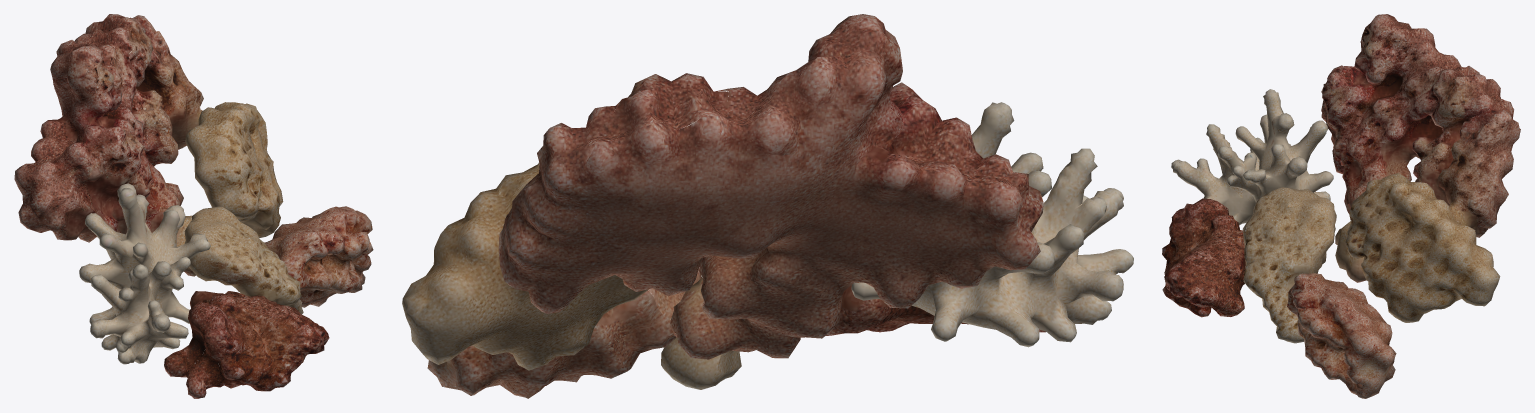
Rendered from coral2.glb.
3 renders of one model, left to right at view 1: azimuth 30°, elevation 25°; view 2: azimuth 150°, elevation 25°; view 3: azimuth 270°, elevation 25°, orthographic. The views are drawn at different scales.
Parts seen in each view (by area): view 1: f7560b8d-cc41-458a-a1b3-b8d138318ae6; view 2: f7560b8d-cc41-458a-a1b3-b8d138318ae6; view 3: f7560b8d-cc41-458a-a1b3-b8d138318ae6.
Boxes of the visible parts, x1,y1,x2,y2 form: f7560b8d-cc41-458a-a1b3-b8d138318ae6: (14,14,373,398); f7560b8d-cc41-458a-a1b3-b8d138318ae6: (402,14,1133,398); f7560b8d-cc41-458a-a1b3-b8d138318ae6: (1162,14,1520,398).
Size of the model in its own units: 0.9995 by 0.7935 by 0.9536.
1 material, 1 textured.
